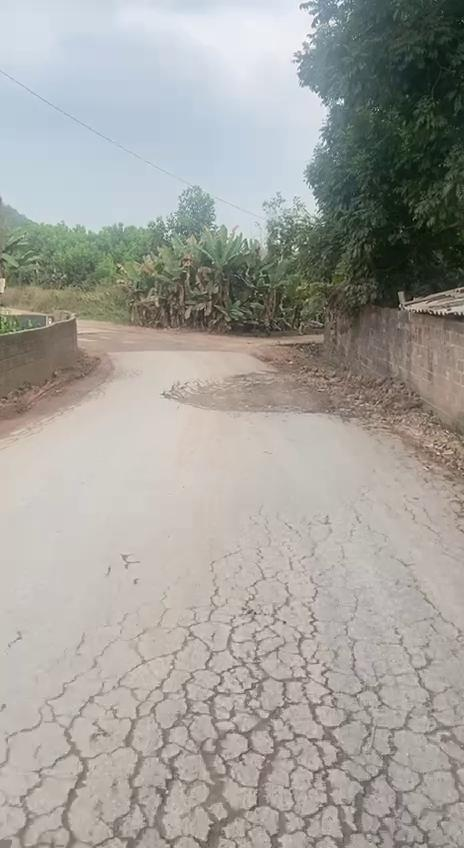pothole: (159, 364, 342, 420)
